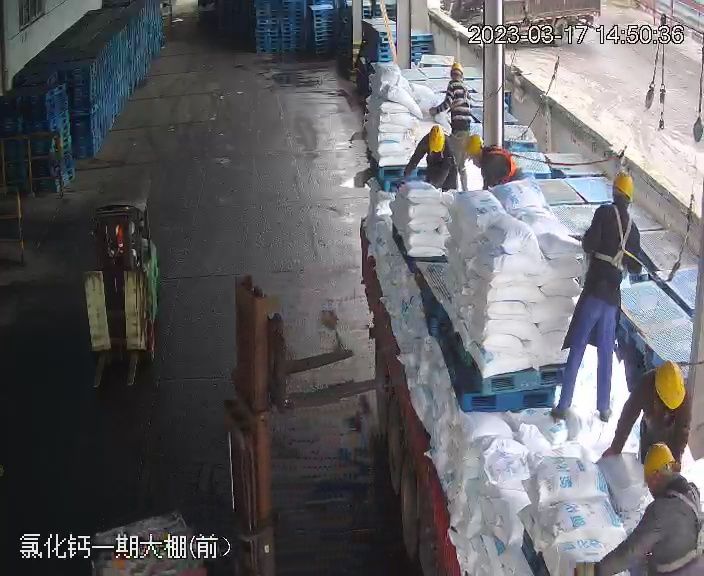belt: (648, 487, 704, 566), (590, 204, 639, 268), (482, 144, 517, 180), (444, 81, 472, 112), (427, 147, 449, 161)
head: (636, 440, 704, 520), (585, 170, 640, 238), (635, 358, 692, 418), (464, 134, 507, 167), (422, 124, 455, 158), (443, 61, 471, 96)
helmet: (653, 362, 687, 411), (641, 441, 679, 478), (611, 171, 637, 200), (464, 133, 483, 158), (427, 125, 445, 149), (448, 60, 464, 74)
people: (551, 170, 649, 429), (585, 443, 703, 576), (603, 362, 694, 478), (402, 125, 465, 192), (426, 60, 474, 140), (463, 134, 515, 180)
truck: (351, 49, 695, 576)
